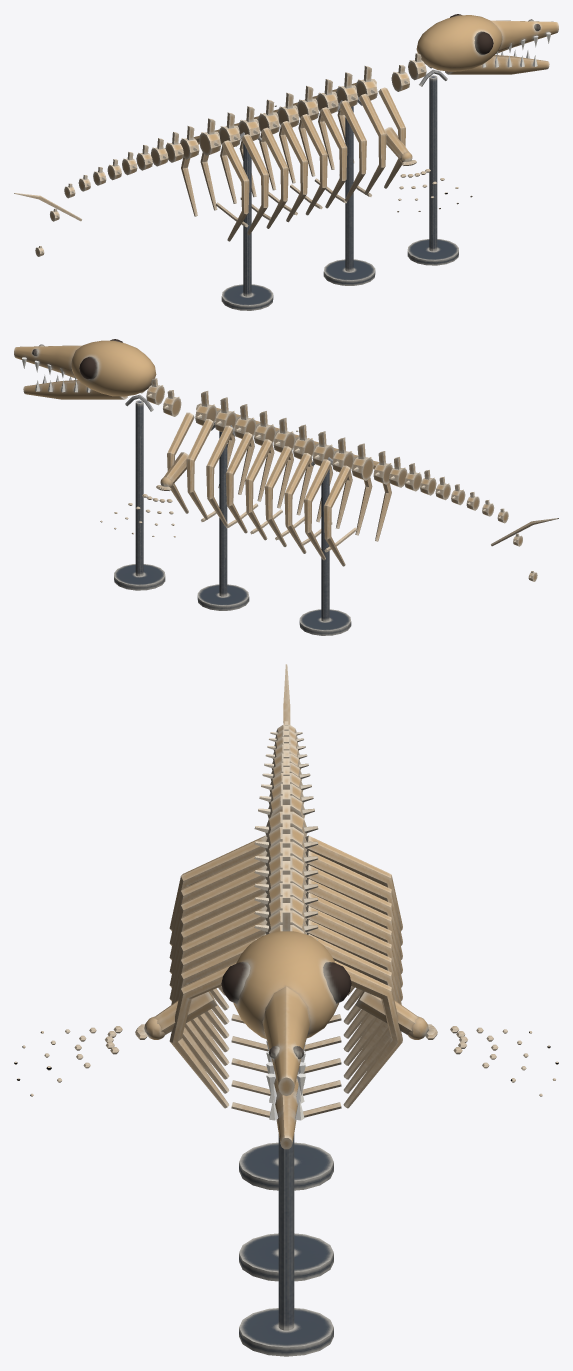
The model's file is skeleton_mosasaur.glb.
3 renders of one model, top to bottom at view 1: azimuth 30°, elevation 25°; view 2: azimuth 150°, elevation 25°; view 3: azimuth 270°, elevation 25°, orthographic. The views are drawn at different scales.
Parts seen in each view (by area): view 1: Ribs, Mount, Skull, Back, Tail, Jaw, Flippers, Neck; view 2: Ribs, Mount, Skull, Back, Tail, Jaw, Flippers, Neck; view 3: Ribs, Mount, Skull, Back, Flippers, Tail, Jaw.
Part boxes in pixels (x1=…): Ribs: x1=181, y1=79, x2=405, y2=241; Mount: x1=221, y1=69, x2=458, y2=310; Skull: x1=416, y1=14, x2=558, y2=71; Back: x1=199, y1=66, x2=377, y2=155; Tail: x1=14, y1=126, x2=199, y2=256; Jaw: x1=445, y1=50, x2=549, y2=74; Flippers: x1=263, y1=103, x2=472, y2=212; Neck: x1=391, y1=53, x2=432, y2=91; Ribs: x1=167, y1=403, x2=391, y2=566; Mount: x1=114, y1=394, x2=351, y2=635; Skull: x1=14, y1=339, x2=156, y2=396; Back: x1=195, y1=391, x2=373, y2=480; Tail: x1=373, y1=451, x2=558, y2=581; Jaw: x1=23, y1=375, x2=127, y2=399; Flippers: x1=100, y1=428, x2=309, y2=537; Neck: x1=140, y1=378, x2=181, y2=416; Ribs: x1=169, y1=835, x2=402, y2=1117; Mount: x1=239, y1=1134, x2=333, y2=1356; Skull: x1=221, y1=931, x2=351, y2=1095; Back: x1=254, y1=789, x2=318, y2=940; Flippers: x1=14, y1=991, x2=558, y2=1096; Tail: x1=258, y1=664, x2=314, y2=818; Jaw: x1=269, y1=1050, x2=304, y2=1149.
Size of the model in its own units: 5.06 by 2.04 by 2.41.
1 material, 1 textured.
